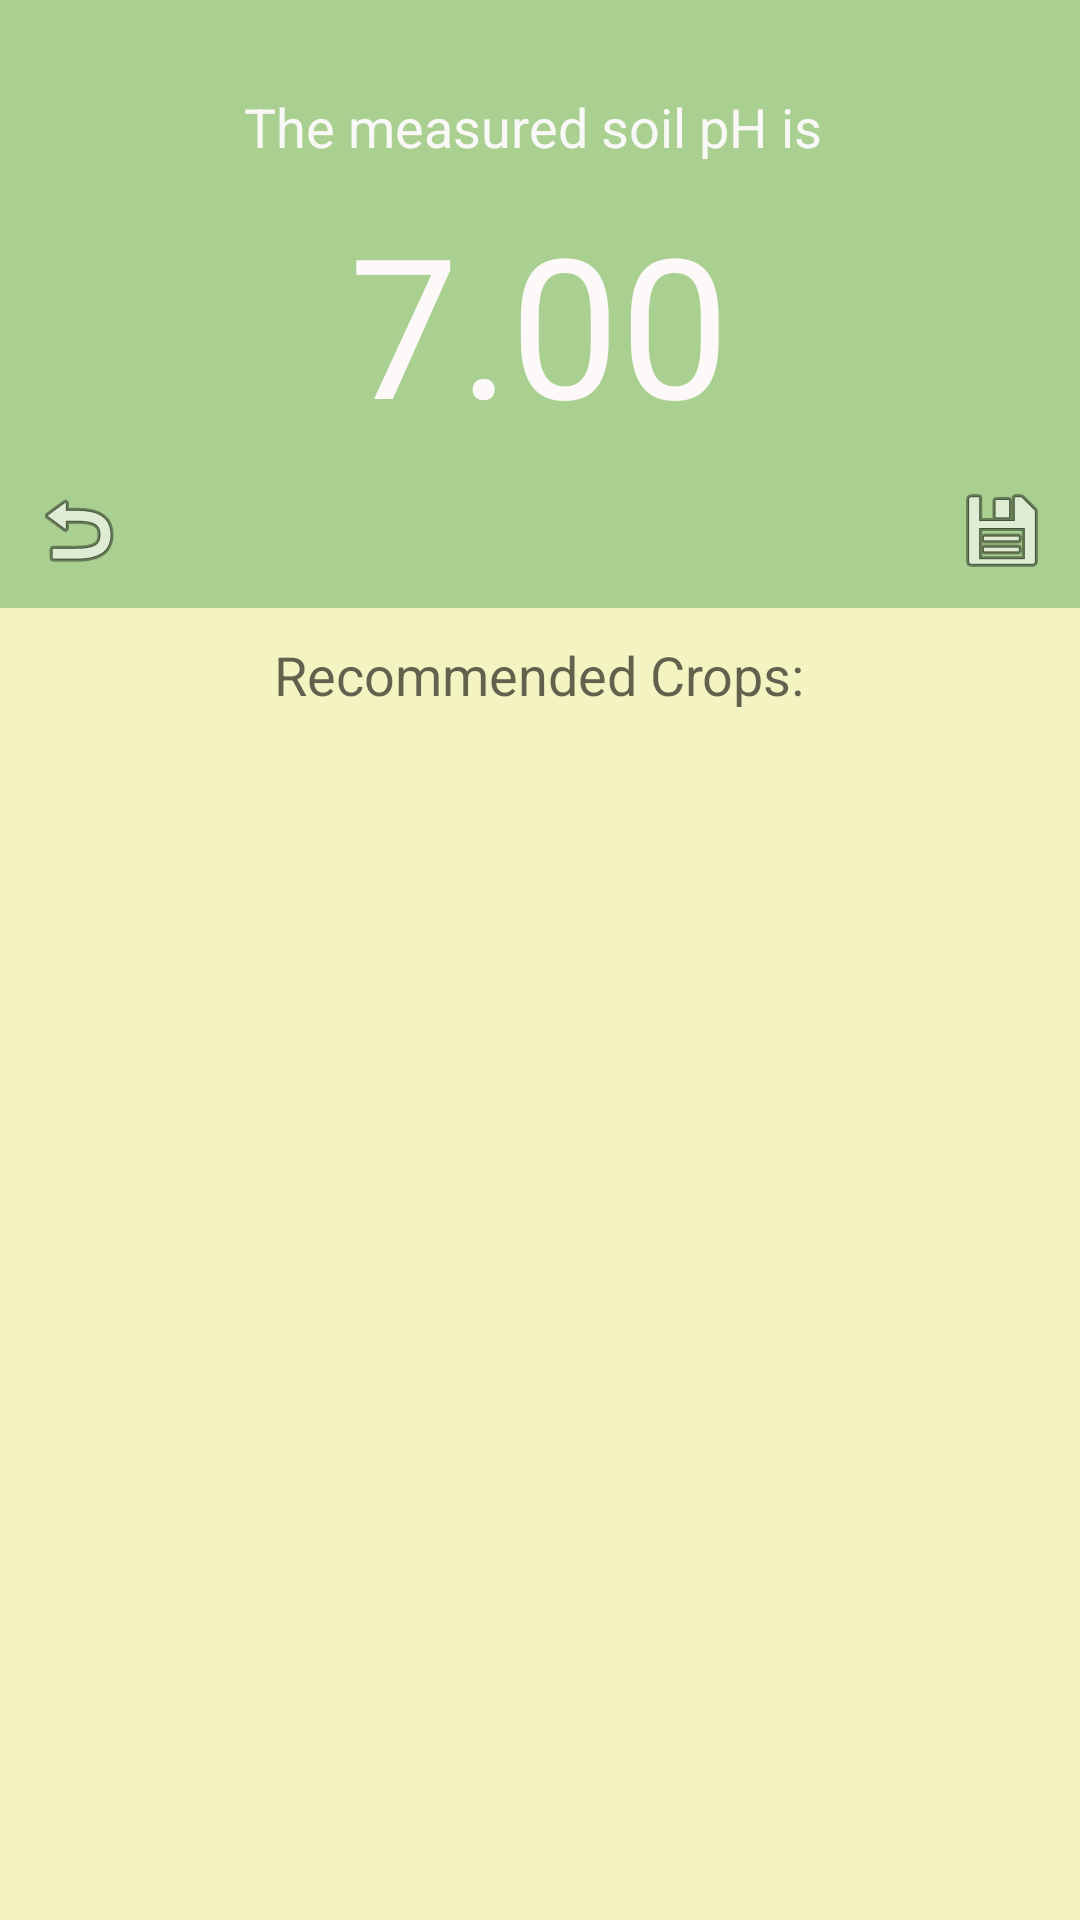

Locate icon controls on the screen. Image size 1080px x 1920px, boxes as (x1=x1, y1=y1, x2=x2, y2=y2).
revert: (x1=45, y1=499, x2=114, y2=562)
save: (x1=966, y1=494, x2=1038, y2=567)
